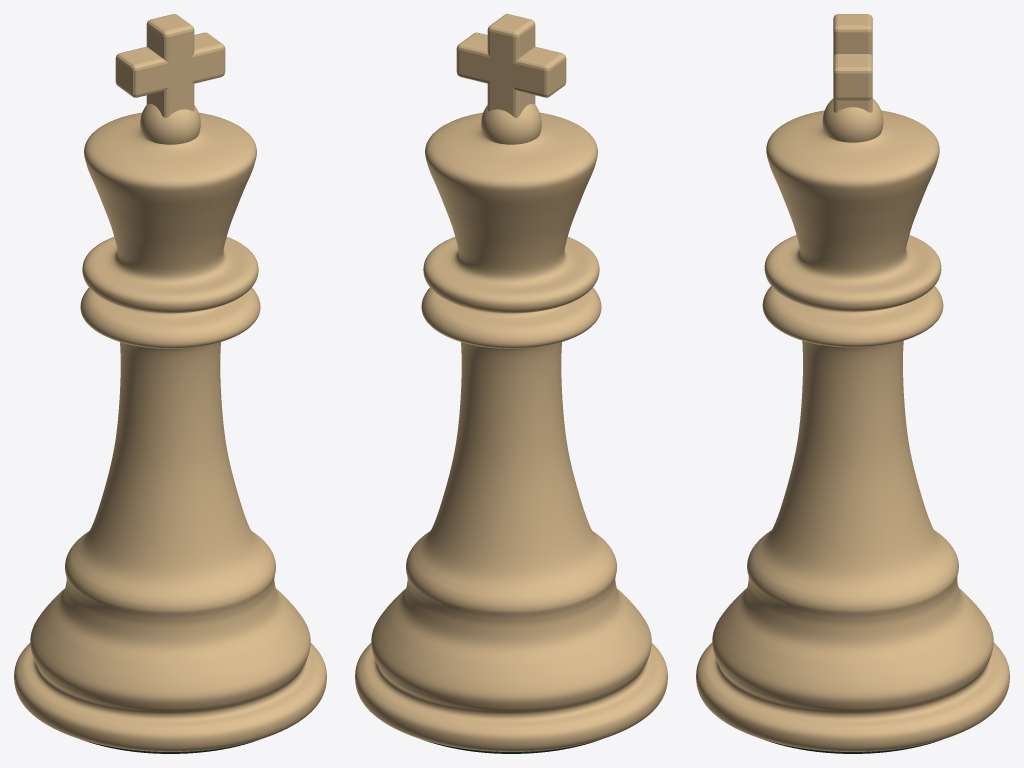
Rendered from king.glb.
3 views of the same model, side by side, from view 1: azimuth 30°, elevation 25°; view 2: azimuth 150°, elevation 25°; view 3: azimuth 270°, elevation 25° (orthographic).
Parts seen in each view (by area): view 1: Staunton King.001; view 2: Staunton King.001; view 3: Staunton King.001.
Part boxes in pixels (x1,y1,x2,y2): Staunton King.001: (14, 14, 326, 753); Staunton King.001: (355, 14, 667, 753); Staunton King.001: (696, 14, 1009, 753).
Bounding box in the file's own units: 0.0412 × 0.0982 × 0.0412.
